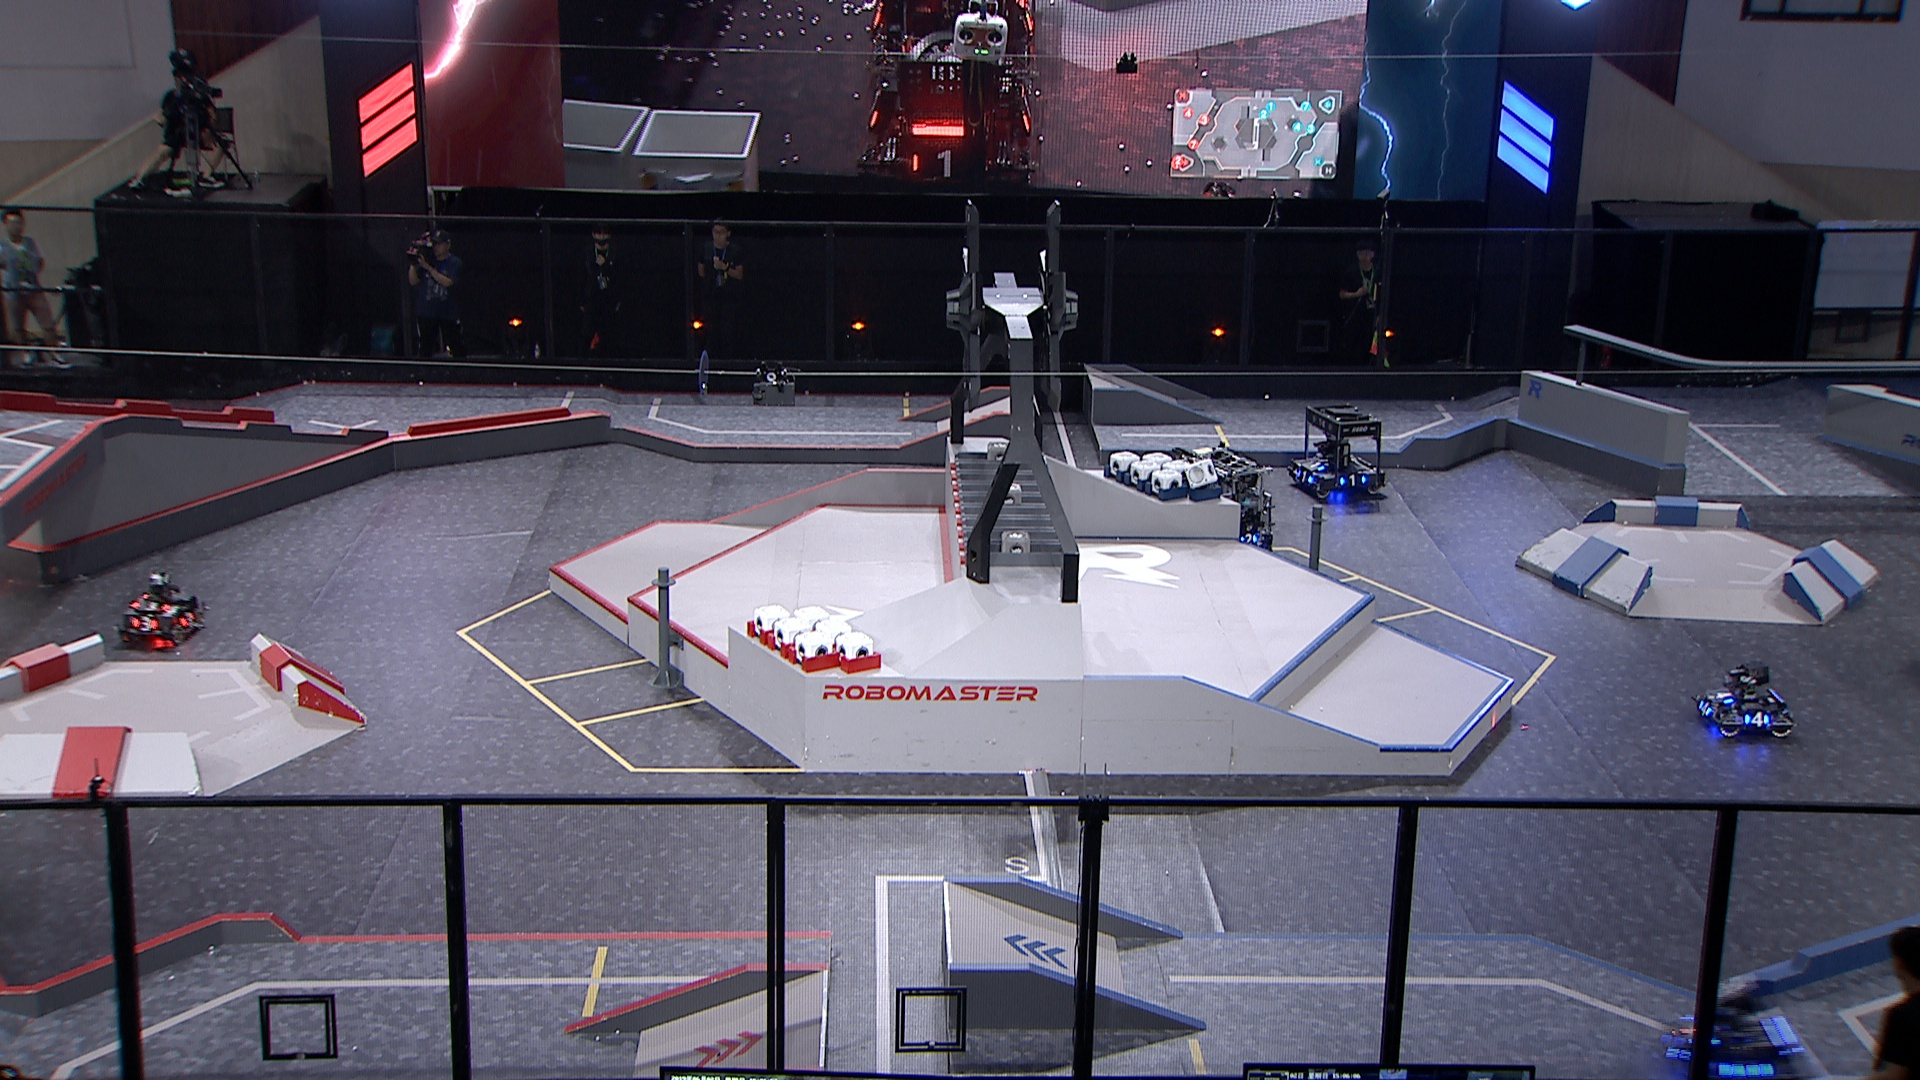armor: (1721, 1060, 1780, 1080), (129, 599, 171, 613), (129, 616, 160, 632), (1338, 473, 1367, 489), (1743, 711, 1770, 727), (177, 611, 196, 629), (1697, 698, 1713, 719), (1712, 690, 1737, 703), (1238, 531, 1258, 546), (1296, 469, 1313, 485), (1305, 458, 1325, 471)
car: (1659, 982, 1803, 1080), (1168, 444, 1276, 559), (1286, 404, 1389, 501), (1688, 657, 1797, 740), (113, 568, 207, 647)
